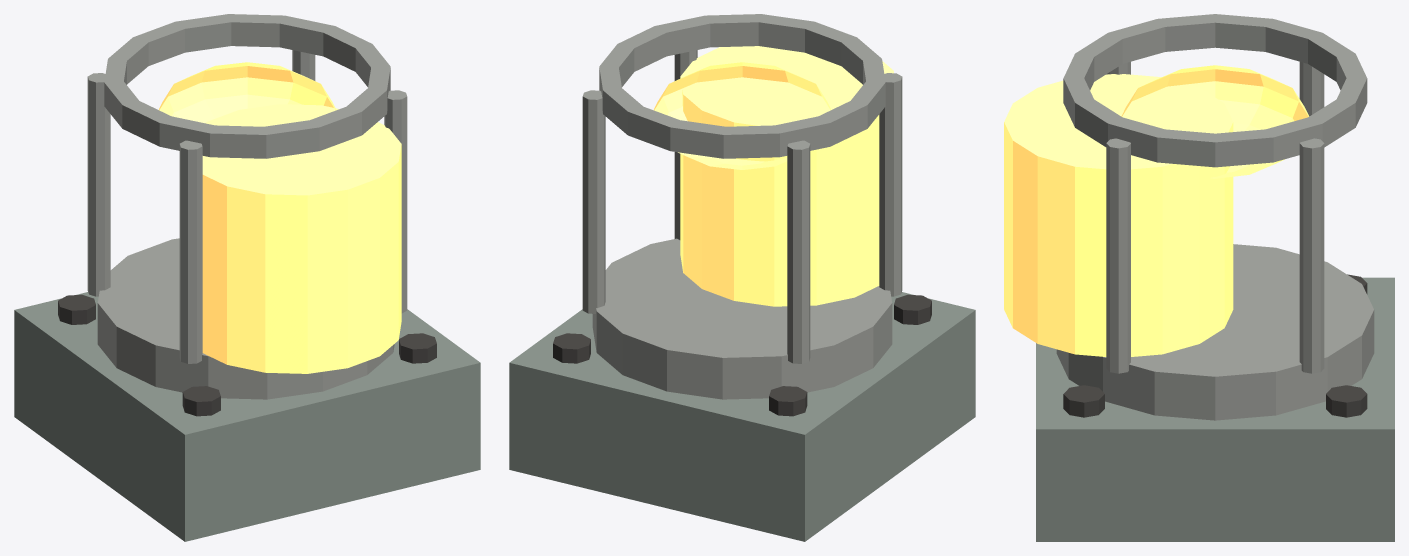
File: signal-house-static-alarm-lamp__211.glb
The picture shows the model from 3 angles, left to right: view 1: azimuth 30°, elevation 25°; view 2: azimuth 150°, elevation 25°; view 3: azimuth 270°, elevation 25°; orthographic projection. The views are drawn at different scales.
Visible parts, largest first — view 1: shell, light, metal, dark; view 2: metal, shell, light, dark; view 3: metal, light, shell, dark.
Boxes of the visible parts, x1=… form: shell: x1=14, y1=292, x2=480, y2=541; light: x1=159, y1=62, x2=401, y2=373; metal: x1=87, y1=14, x2=407, y2=399; dark: x1=58, y1=294, x2=436, y2=416; metal: x1=582, y1=14, x2=902, y2=399; shell: x1=509, y1=292, x2=975, y2=541; light: x1=654, y1=46, x2=893, y2=306; dark: x1=553, y1=294, x2=931, y2=416; metal: x1=1056, y1=14, x2=1374, y2=420; light: x1=1004, y1=65, x2=1309, y2=356; shell: x1=1036, y1=277, x2=1394, y2=541; dark: x1=1063, y1=274, x2=1367, y2=417.
Bounding box in the file's own units: 0.26 × 0.31 × 0.283.
